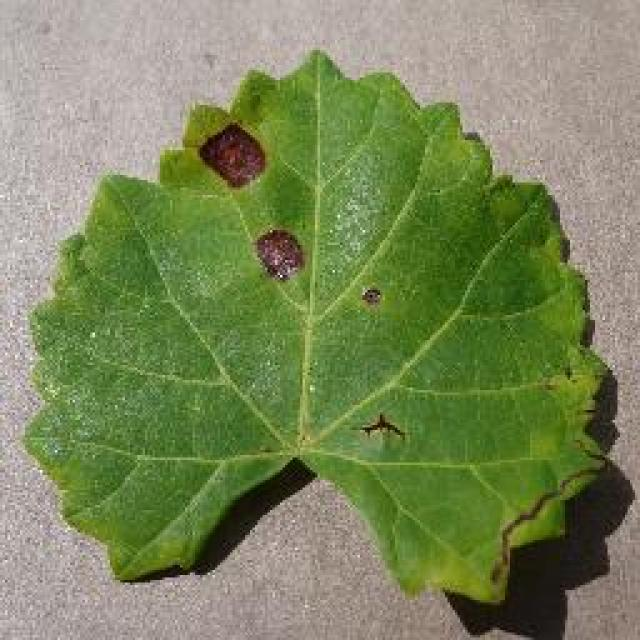Grape___Black_rot: (15, 43, 620, 608)
